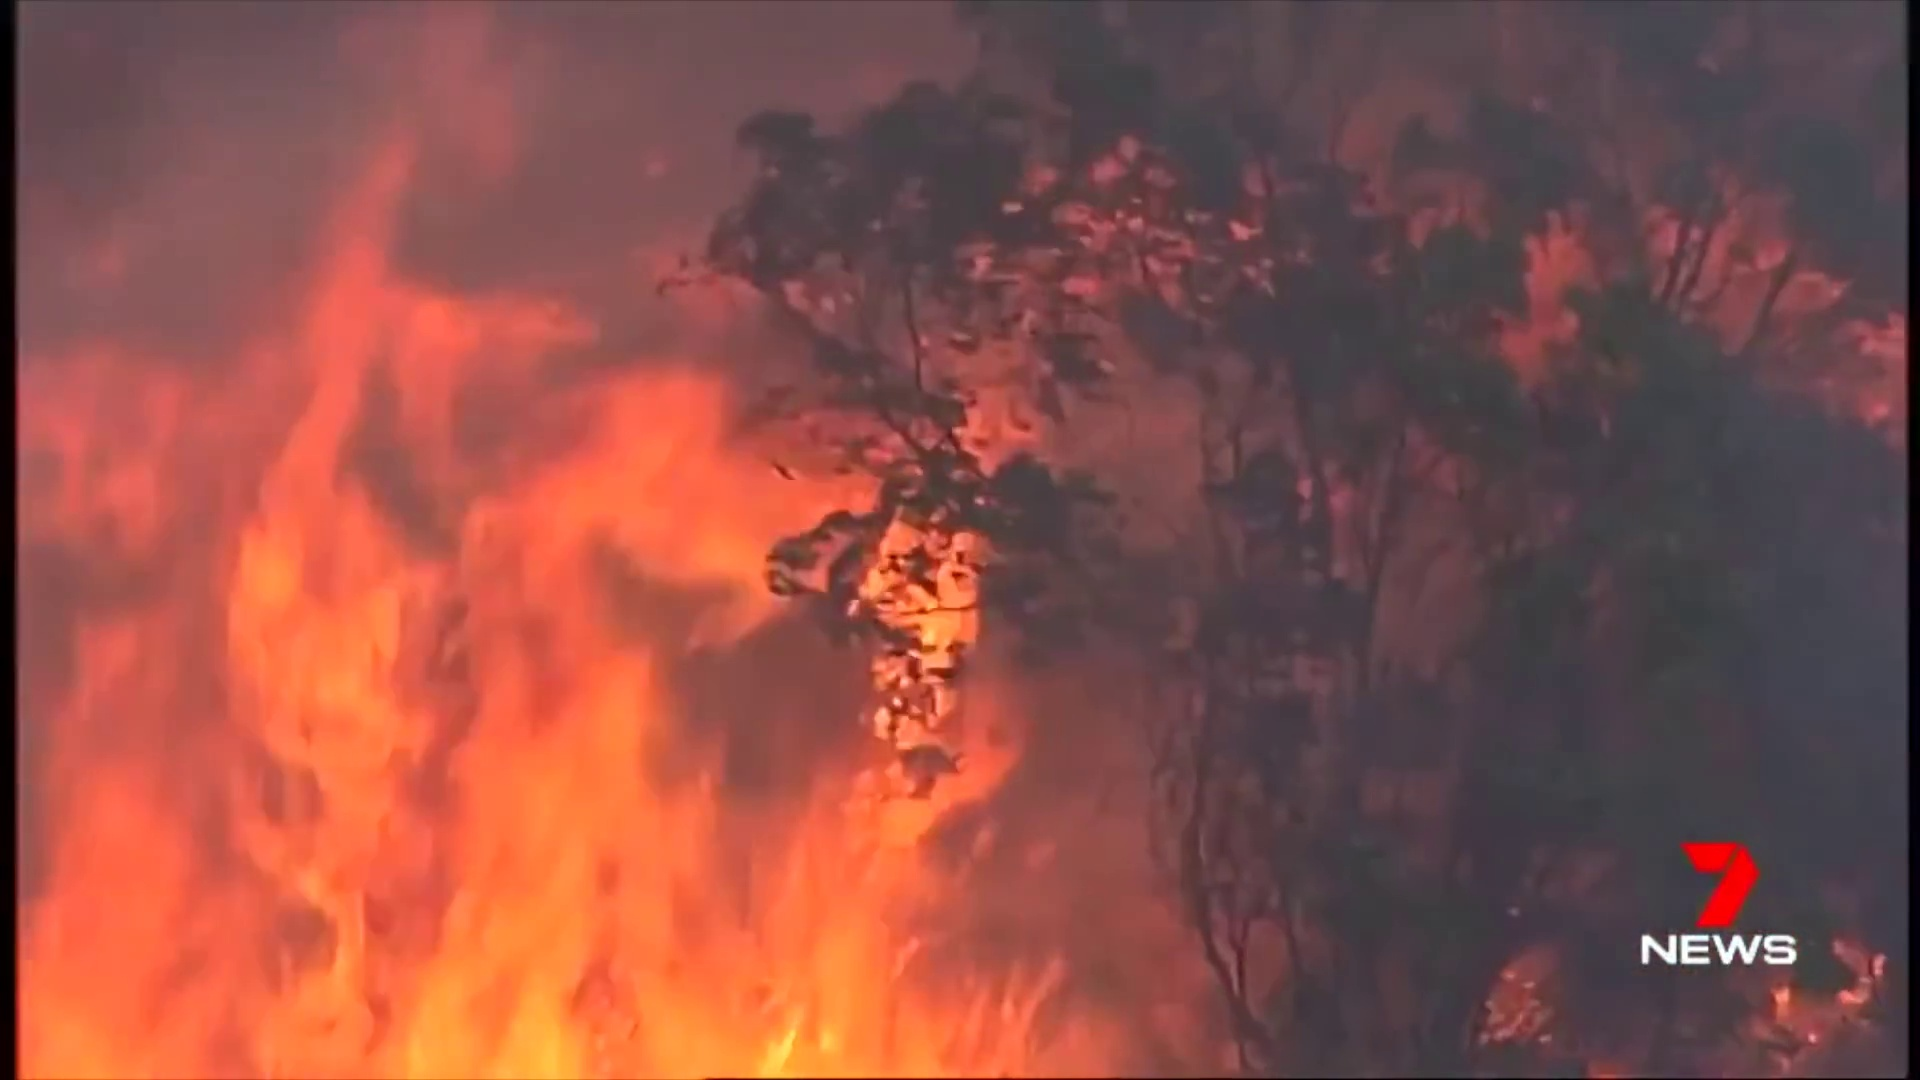fire: (5, 245, 1054, 1080)
